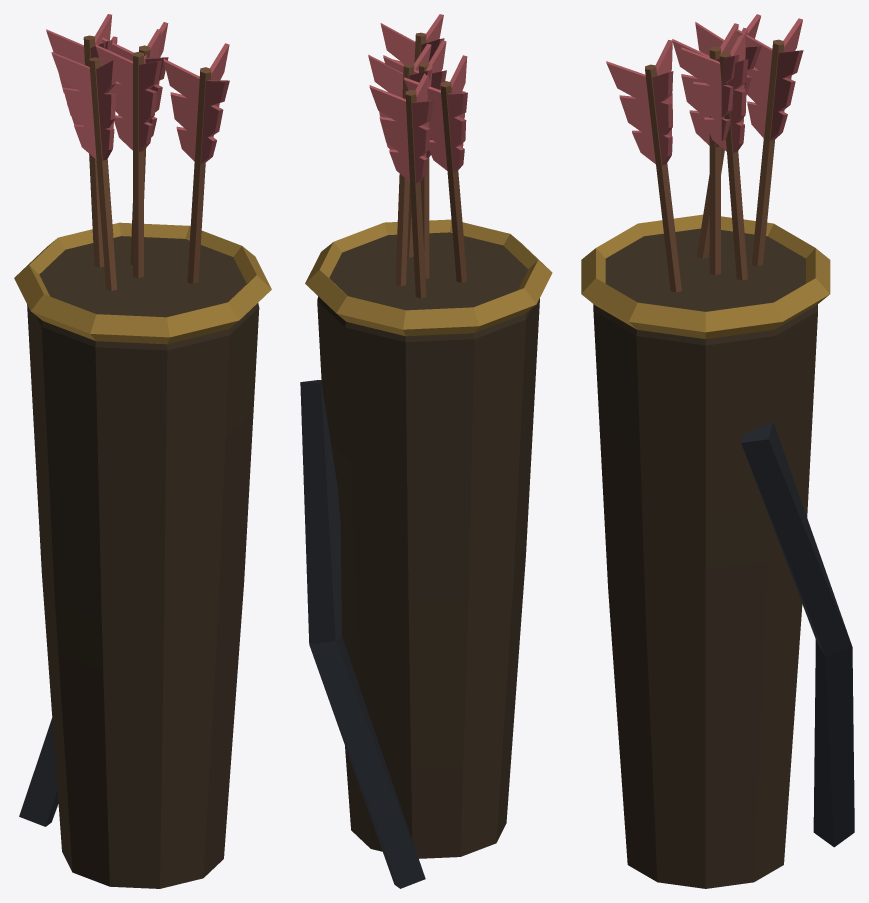
The model's file is quiver.glb.
The picture shows the model from 3 angles, left to right: view 1: azimuth 30°, elevation 25°; view 2: azimuth 150°, elevation 25°; view 3: azimuth 270°, elevation 25°; orthographic projection. The views are drawn at different scales.
Parts seen in each view (by area): view 1: m; view 2: m; view 3: m.
Part boxes in pixels (x1,y1,x2,y2): m: [14, 14, 271, 888]; m: [300, 14, 552, 888]; m: [581, 14, 854, 888].
Bounding box in the file's own units: 0.0952 × 0.33 × 0.0994.
